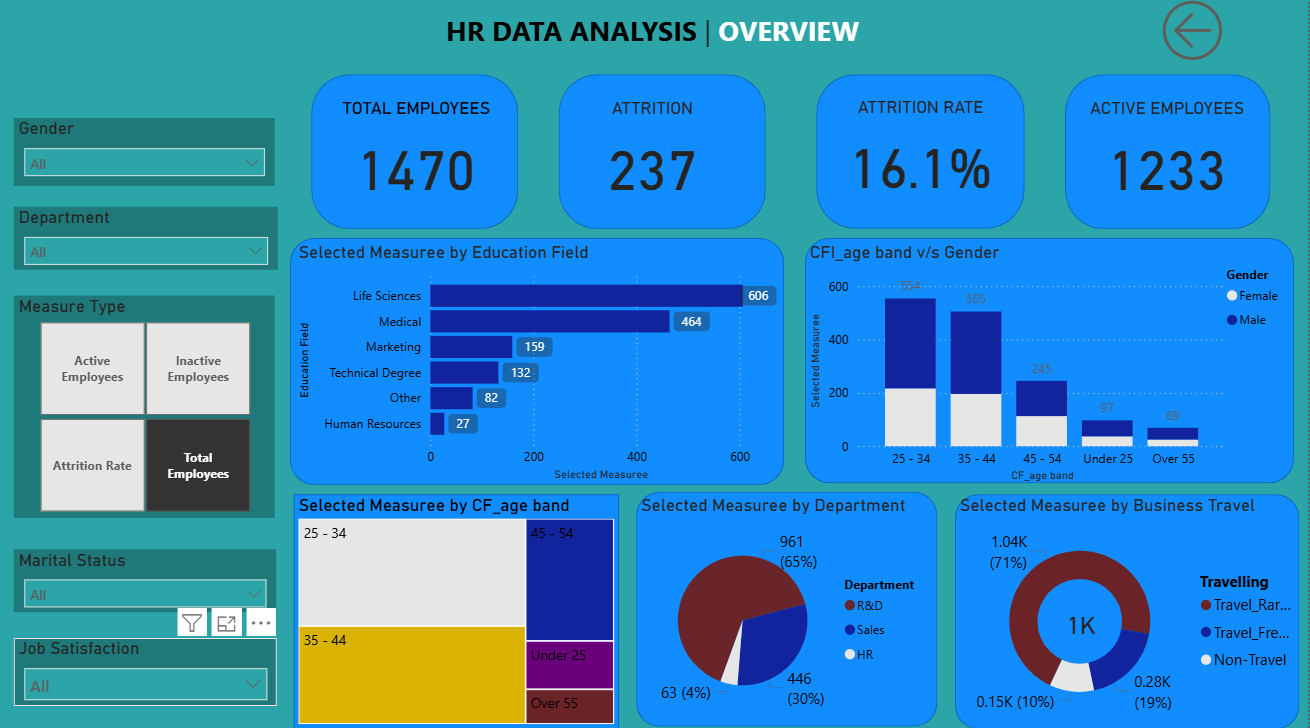

This screenshot's page, from the dashboard's own definition file:
{"tool":"powerbi","page":{"name":"OVERVIEW","canvas":[1280,720],"ordinal":1},"visuals":[{"type":"shape","box":[1041.7,80,200.9,151.5],"z":0},{"type":"shape","box":[798.2,79.8,203.8,151.1],"z":1000},{"type":"shape","box":[546.4,80,202.6,151.5],"z":2000},{"type":"shape","box":[304.7,80,202.6,151.5],"z":3000},{"type":"shape","box":[788.1,240,478.3,240],"z":4000},{"type":"shape","box":[284.3,240,483.4,241.7],"z":5000},{"type":"shape","box":[934.5,490.2,337,229.8],"z":6000},{"type":"shape","box":[623,488.5,294.5,229.8],"z":7000},{"type":"shape","box":[287.7,490.2,318.3,229.8],"z":8000},{"type":"pieChart","fields":{"Category":["Hr Data.Department"],"Y":["Hr Data.Selected Measuree"]},"box":[623,490.2,294.5,228.1],"z":9000},{"type":"columnChart","title":"CFI_age band v/s Gender","fields":{"Category":["Hr Data.CF_age band"],"Series":["Hr Data.Gender"],"Y":["Hr Data.Selected Measuree"]},"box":[788.1,243.4,478.3,240],"z":10000},{"type":"card","title":"TOTAL EMPLOYEES","fields":{"Values":["CountNonNull(Hr Data.emp no)"]},"box":[294.5,102.1,224.7,108.9],"z":11000},{"type":"barChart","fields":{"Category":["Hr Data.Education Field"],"Y":["Hr Data.Selected Measuree"]},"box":[287.7,243.4,483.4,238.3],"z":12000},{"type":"card","title":"ATTRITION","fields":{"Values":["Hr Data.Active Employees"]},"box":[526,102.1,224.7,108.9],"z":13000},{"type":"treemap","fields":{"Group":["Hr Data.CF_age band"],"Values":["Hr Data.Selected Measuree"]},"box":[287.7,490.2,318.3,229.8],"z":14000},{"type":"card","title":"ACTIVE EMPLOYEES","fields":{"Values":["Hr Data.Active Employees"]},"box":[1028.1,102.1,226.4,108.9],"z":15000},{"type":"donutChart","fields":{"Category":["Hr Data.Business Travel"],"Y":["Hr Data.Selected Measuree"]},"box":[934.5,490.2,345.5,229.8],"z":16000},{"type":"card","title":"ATTRITION RATE","fields":{"Values":["Hr Data.ATTRITION RATE"]},"box":[788.2,101.2,223.8,108.3],"z":17000},{"type":"slicer","title":"Measure Type","fields":{"Values":["Measurees.Measurees"]},"box":[13.6,296.2,255.3,217.9],"z":18000},{"type":"slicer","title":"Marital Status","fields":{"Values":["Hr Data.Marital Status"]},"box":[13.6,544.7,257,61.3],"z":19000},{"type":"slicer","title":"Gender","fields":{"Values":["Hr Data.Gender"]},"box":[13.6,122.6,255.3,66.4],"z":20000},{"type":"slicer","title":"Department","fields":{"Values":["Hr Data.Department"]},"box":[13.6,209.4,258.7,61.3],"z":21000},{"type":"slicer","title":"Job Satisfaction","fields":{"Values":["Hr Data.Job Satisfaction"]},"box":[13.7,631.2,258,65.9],"z":22000},{"type":"textbox","box":[419.9,13.7,437.7,60.4],"z":23000},{"type":"card","fields":{"Values":["Hr Data.Selected Measuree"]},"box":[985.5,537.9,144.7,160],"z":24000},{"type":"actionButton","box":[1130.2,0,112.3,73.2],"z":25000},{"type":"image","box":[63,0,160,97],"z":26000}]}

Visuals, with their boxes in screenshot pixels (x1, y1, x2, y2), scaled from the page's 1280x720 canvas onto the 1310x728 screenshot:
shape: x1=1066, y1=81, x2=1272, y2=234
shape: x1=817, y1=81, x2=1025, y2=233
shape: x1=559, y1=81, x2=767, y2=234
shape: x1=312, y1=81, x2=519, y2=234
shape: x1=807, y1=243, x2=1296, y2=485
shape: x1=291, y1=243, x2=786, y2=487
shape: x1=956, y1=496, x2=1301, y2=727
shape: x1=638, y1=494, x2=939, y2=726
shape: x1=294, y1=496, x2=620, y2=727
pieChart - Hr Data.Department x Hr Data.Selected Measuree: x1=638, y1=496, x2=939, y2=726
"CFI_age band v/s Gender" columnChart: x1=807, y1=246, x2=1296, y2=489
"TOTAL EMPLOYEES" card: x1=301, y1=103, x2=531, y2=213
barChart - Hr Data.Education Field x Hr Data.Selected Measuree: x1=294, y1=246, x2=789, y2=487
"ATTRITION" card: x1=538, y1=103, x2=768, y2=213
treemap - Hr Data.CF_age band x Hr Data.Selected Measuree: x1=294, y1=496, x2=620, y2=727
"ACTIVE EMPLOYEES" card: x1=1052, y1=103, x2=1284, y2=213
donutChart - Hr Data.Business Travel x Hr Data.Selected Measuree: x1=956, y1=496, x2=1309, y2=727
"ATTRITION RATE" card: x1=807, y1=102, x2=1036, y2=212
"Measure Type" slicer: x1=14, y1=299, x2=275, y2=520
"Marital Status" slicer: x1=14, y1=551, x2=277, y2=613
"Gender" slicer: x1=14, y1=124, x2=275, y2=191
"Department" slicer: x1=14, y1=212, x2=279, y2=274
"Job Satisfaction" slicer: x1=14, y1=638, x2=278, y2=705
textbox: x1=430, y1=14, x2=878, y2=75
card - Hr Data.Selected Measuree: x1=1009, y1=544, x2=1157, y2=706
actionButton: x1=1157, y1=0, x2=1272, y2=74
image: x1=64, y1=0, x2=228, y2=98
